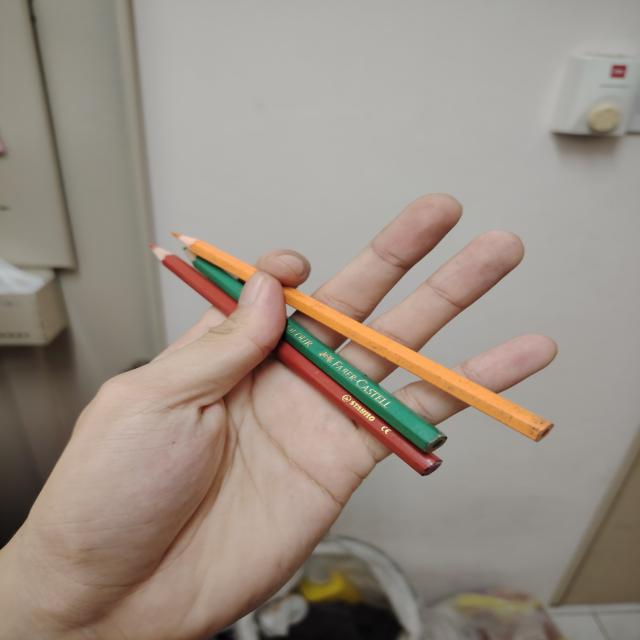pencil: (172, 232, 553, 440), (152, 245, 443, 475), (185, 249, 449, 454)
